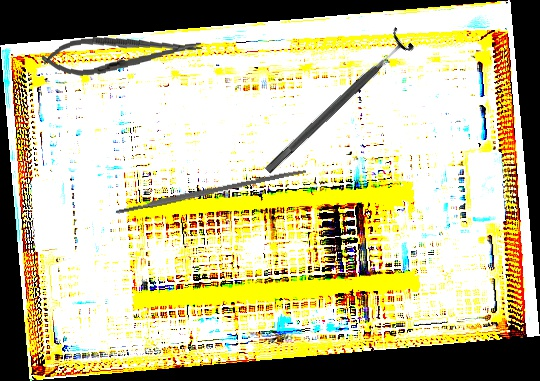Fixation Ring: (256, 26, 416, 182)
Needle Holder: (40, 27, 204, 81)
Scalpel Handle: (115, 166, 307, 216)
